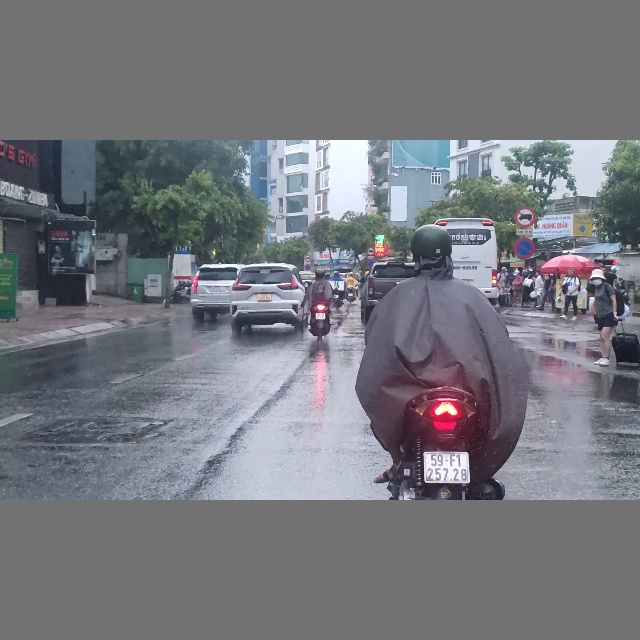P.106a*Xe tai: (514, 206, 537, 228), (367, 247, 375, 255)
P.131a: (513, 235, 536, 259), (367, 260, 374, 267)
